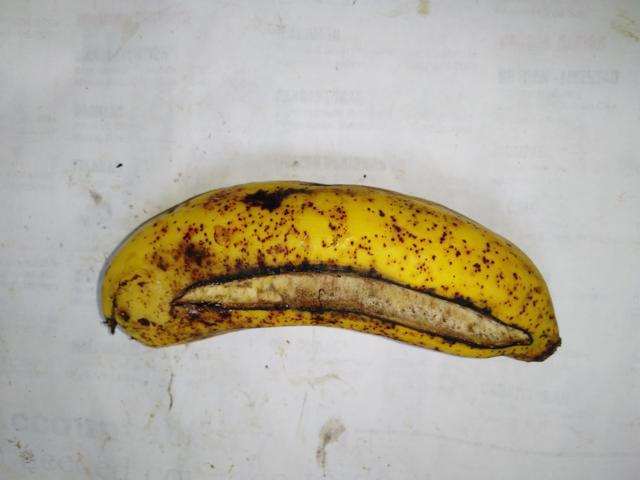rotten: (162, 239, 540, 362)
